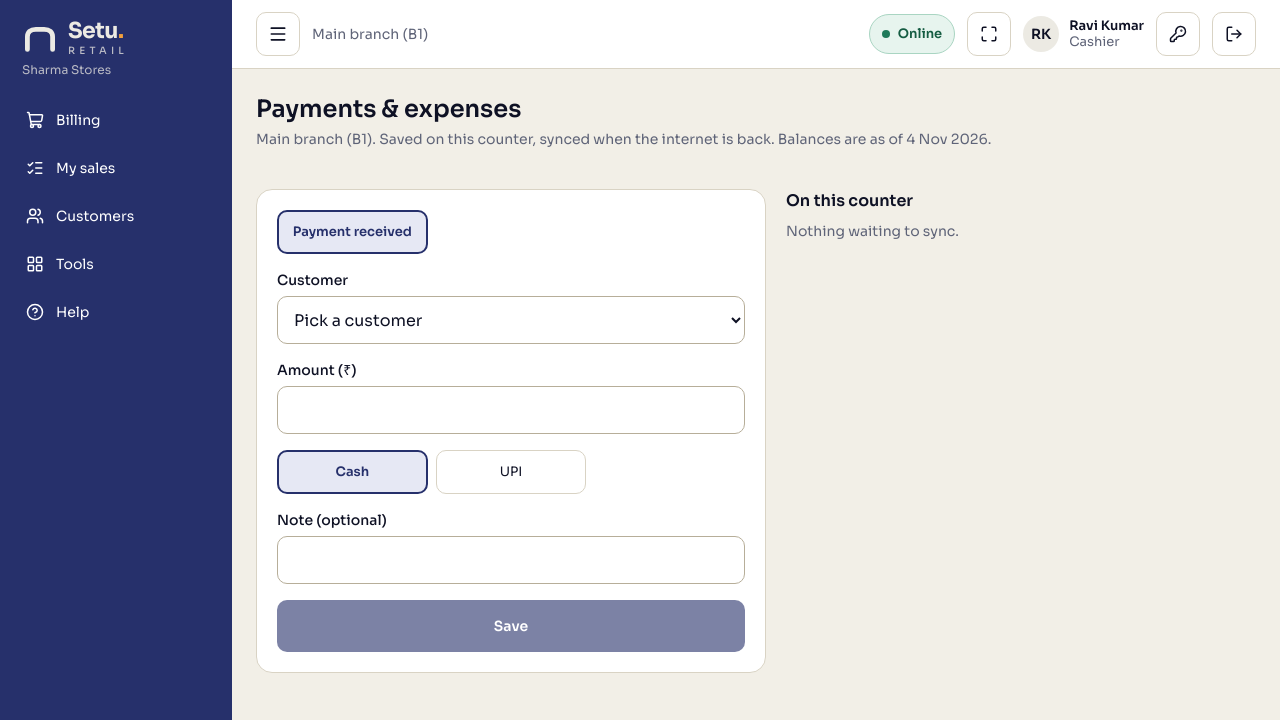
Scenario: offline payments and expenses › queues a payment against the pack's balance and syncs it once online
This screenshot has width=1280, height=720.
Step 1. Select "Meera · 9900011111 · owes ₹590.00" in the dropdown labelled "Customer" → [511, 320], box [277, 296, 745, 344]
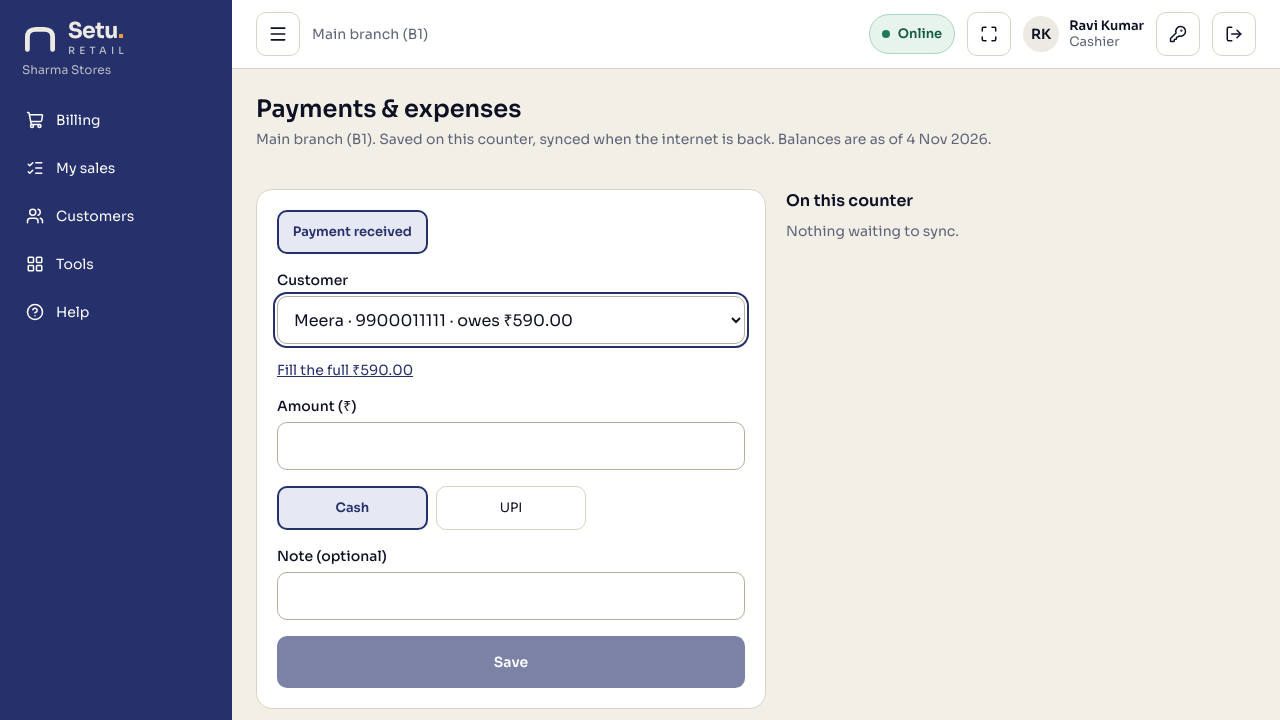
Step 2. Click the button "Fill the full ₹590.00" → [345, 370], box [277, 360, 413, 380]
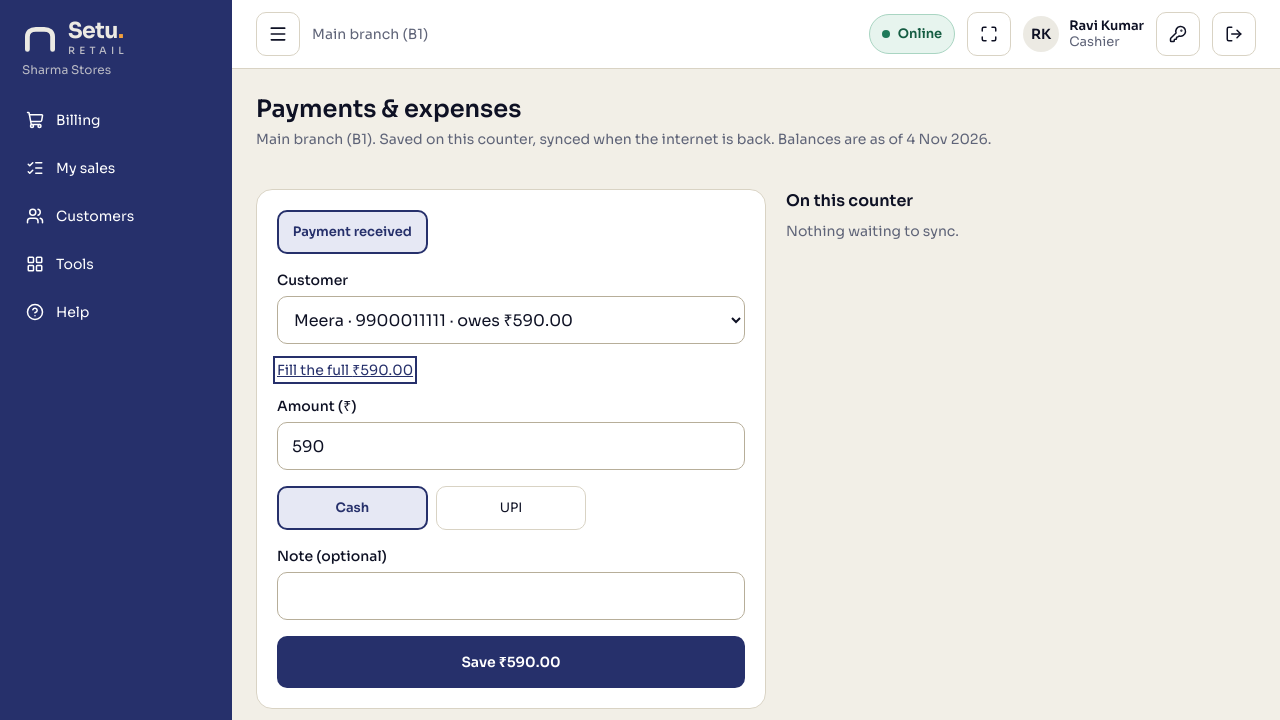
Step 3. Click the button "Save ₹590.00" → [511, 662], box [277, 636, 745, 688]
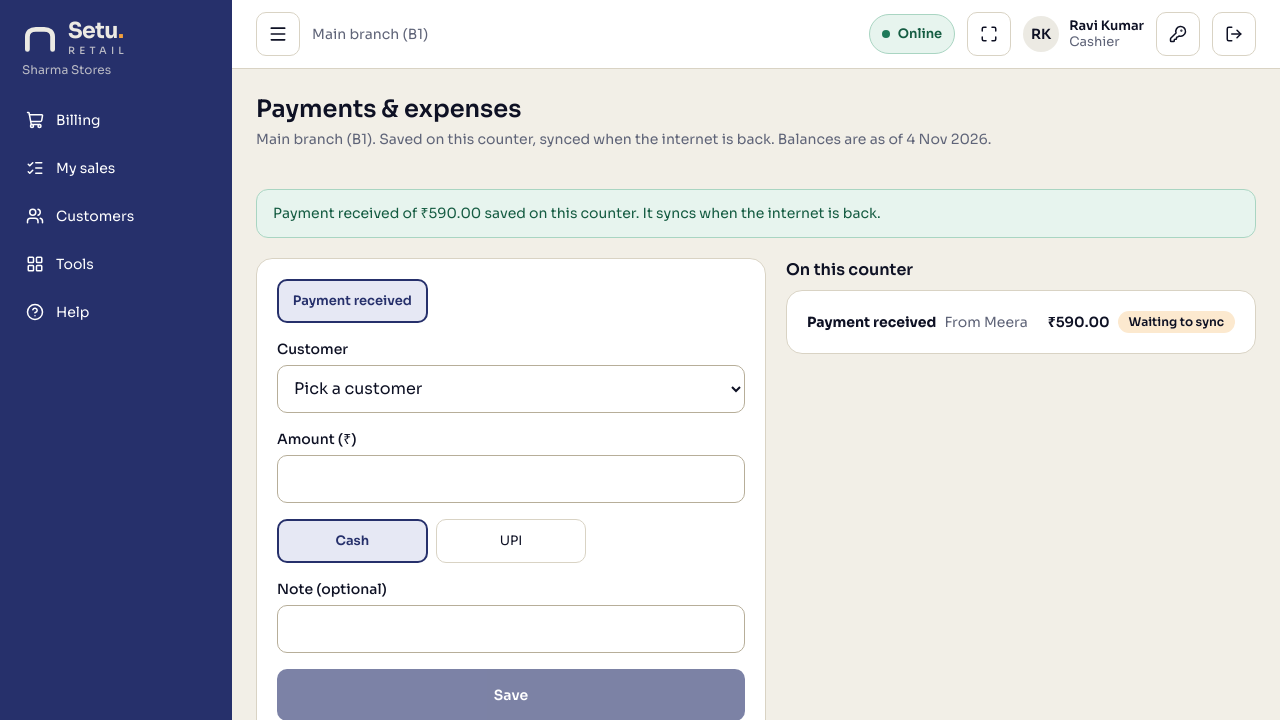
Now the text "saved on this counter" is shown, box [273, 204, 881, 222]
